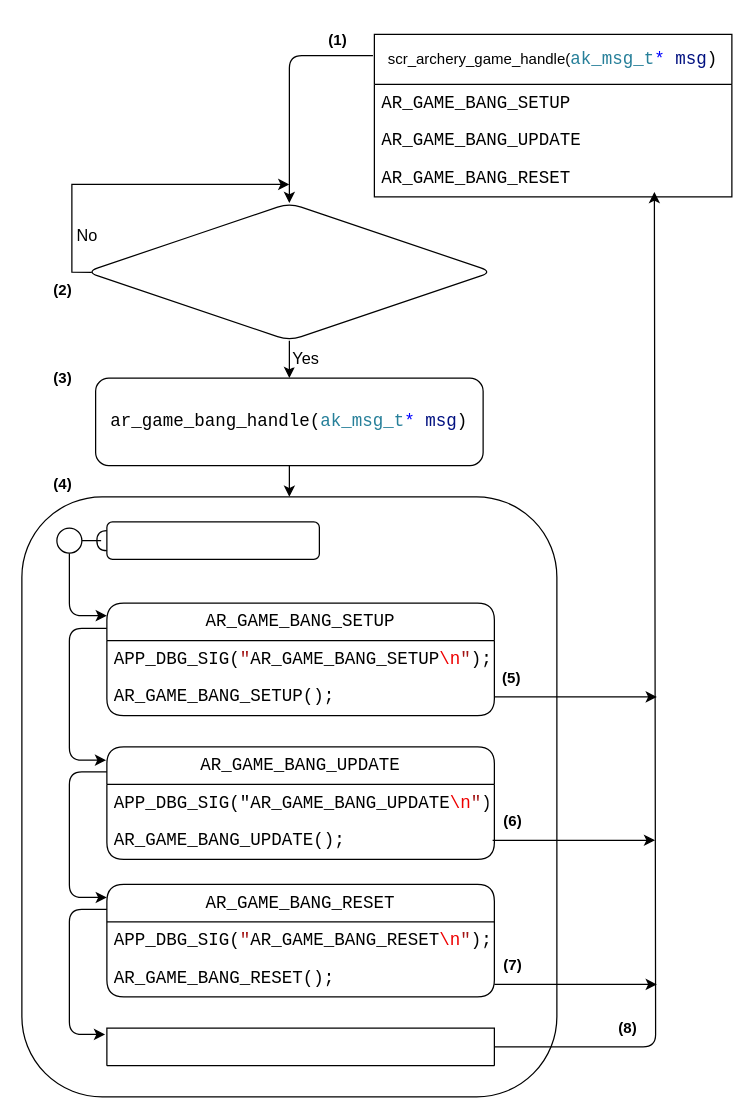
Image size: 754x1119. Some labels were removed from this diagram. The shapes that lost their labels are listed below. From the top down, each one's centre as x and y in pixels, then its label:
At (x=289, y=271): "task_post_pure_msg( AR_GAME_BANG_ID , signal )".
At (x=212, y=540): "switch ( msg -> signal )".
At (x=300, y=1046): "default".
